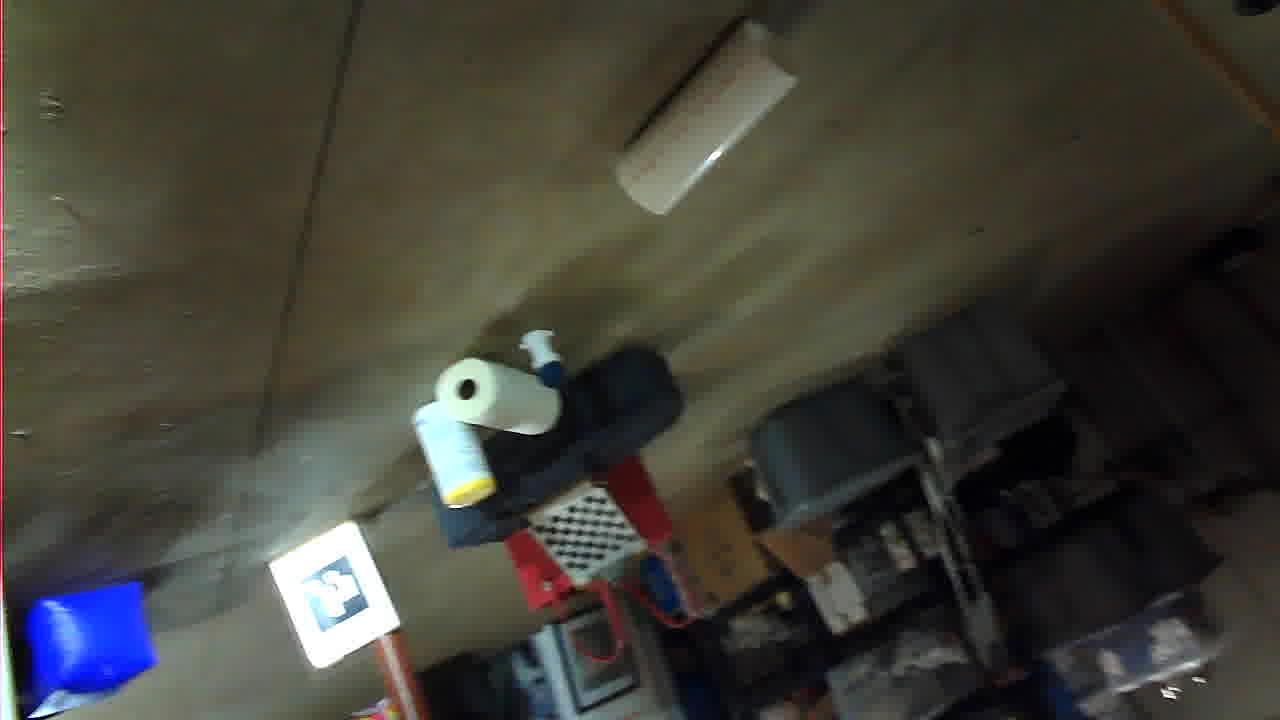coral: (480, 502, 667, 696)
